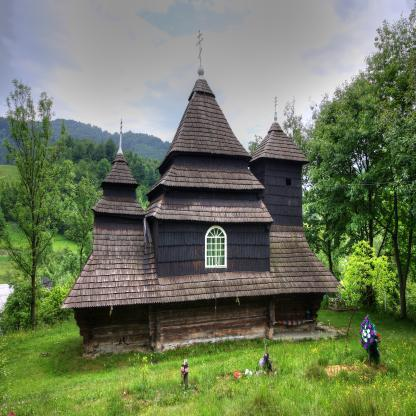Building Outline: (60, 66, 349, 360)
Facade: (94, 225, 305, 352)
Floor: (94, 225, 304, 276)
Floor Slab: (94, 274, 304, 282), (267, 221, 302, 226)
Ground Floor: (94, 279, 304, 352)
Roof: (60, 80, 349, 309)
Top Floor: (266, 165, 302, 222)
Window: (205, 225, 227, 268), (286, 178, 291, 185)
